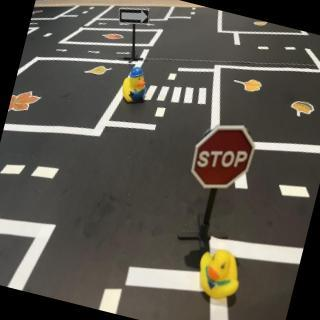duck_regular: (193, 246, 248, 306)
duck_specialty: (120, 65, 154, 108)
road_crosswalk: (142, 72, 212, 117)
road_oneway: (115, 48, 133, 60), (54, 46, 70, 56), (87, 48, 102, 57), (97, 20, 109, 28), (146, 21, 158, 29), (118, 22, 130, 30)
sign_oneway_right: (117, 1, 154, 31)
sign_stop: (186, 116, 260, 200)
